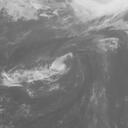cyclone: (21, 42, 88, 98)
